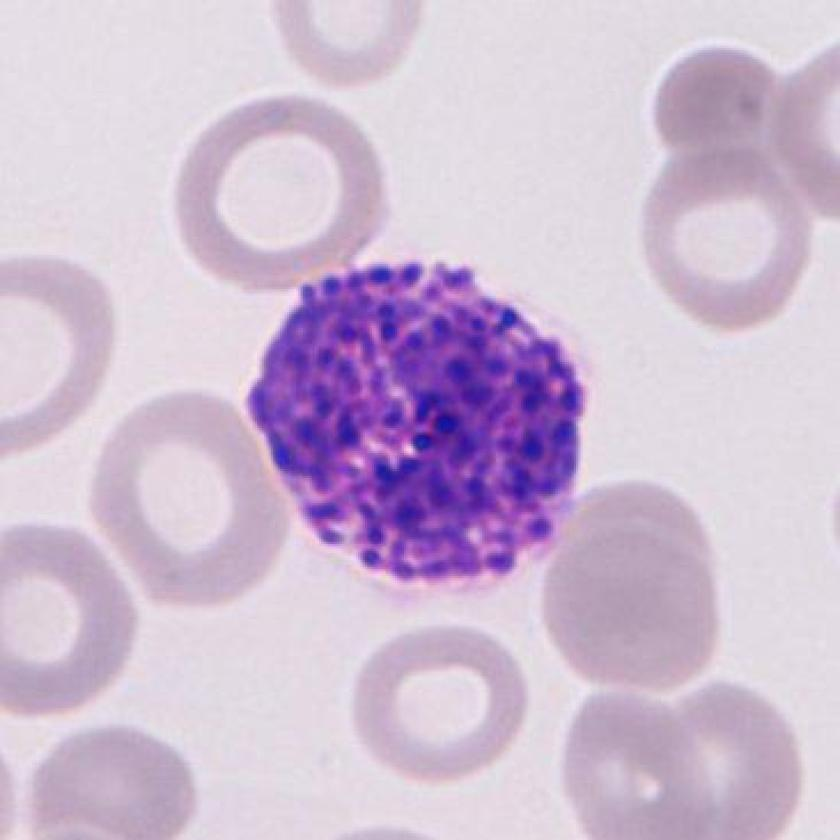basophil: (245, 251, 587, 586)
